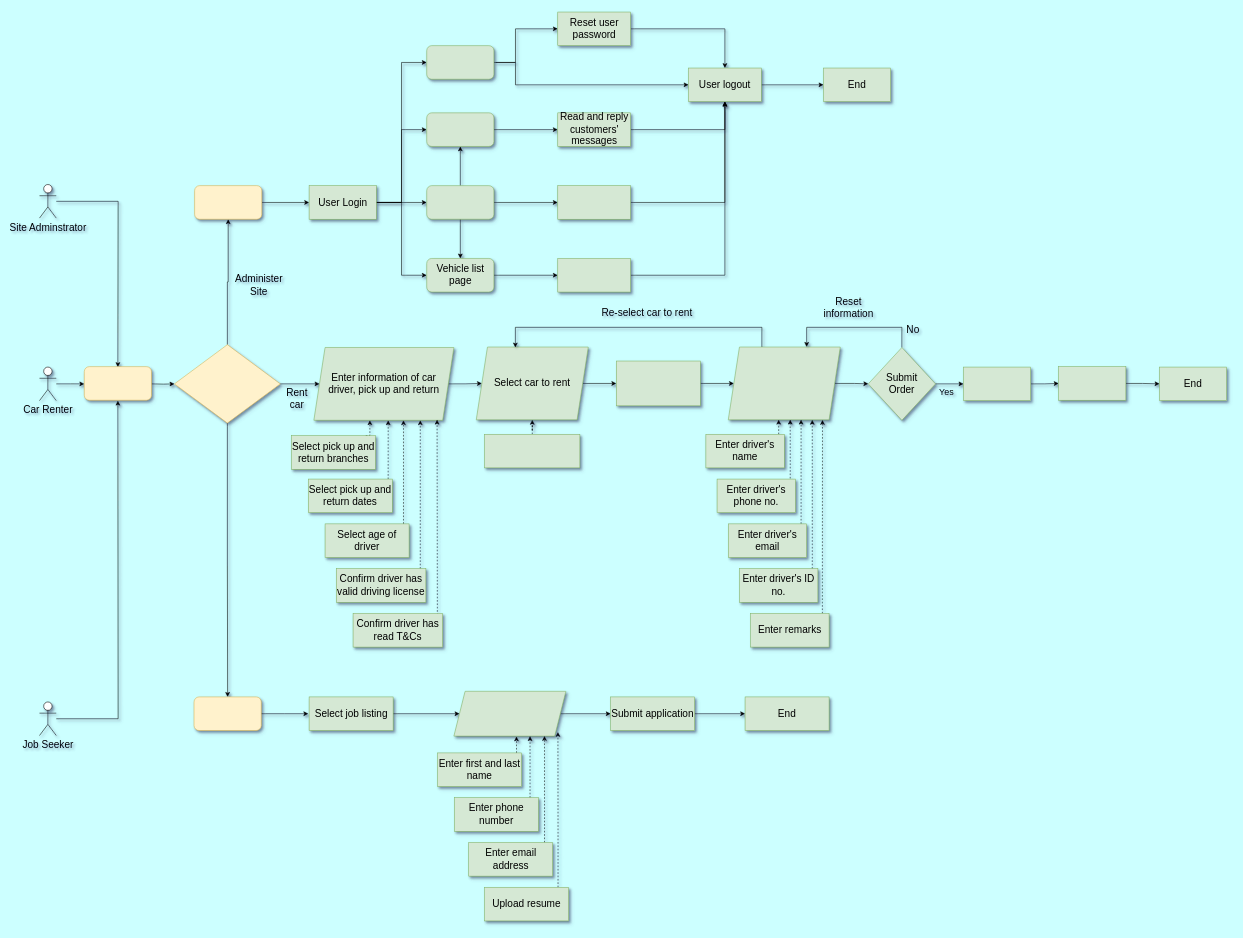
This 1243x938 diagram has some shape labels left out. Each missing label, with the centre of its shape:
Add/remove rental car information: point 594,276
Calculate total rental amount: point 658,384
Customer message page: point 460,130
Customer order page: point 460,203
Enter driver's personal particulars: point 784,384
Fill in application form: point 510,714
Filter and list customers' orders: point 594,203
Homepage: point 118,384
Job listing page: point 228,714
Login page: point 228,203
Order confirmation: point 997,384
Rent car, administer site or seek job?: point 228,384
Select car brand and type: point 532,451
Send confirmation email: point 1092,384
User account management page: point 460,63
